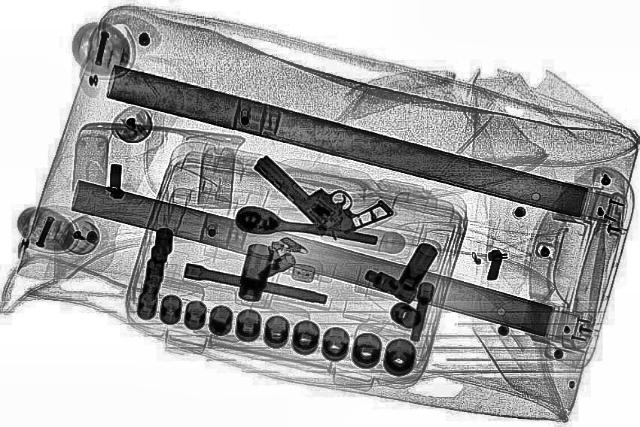Gun: (247, 136, 395, 239)
